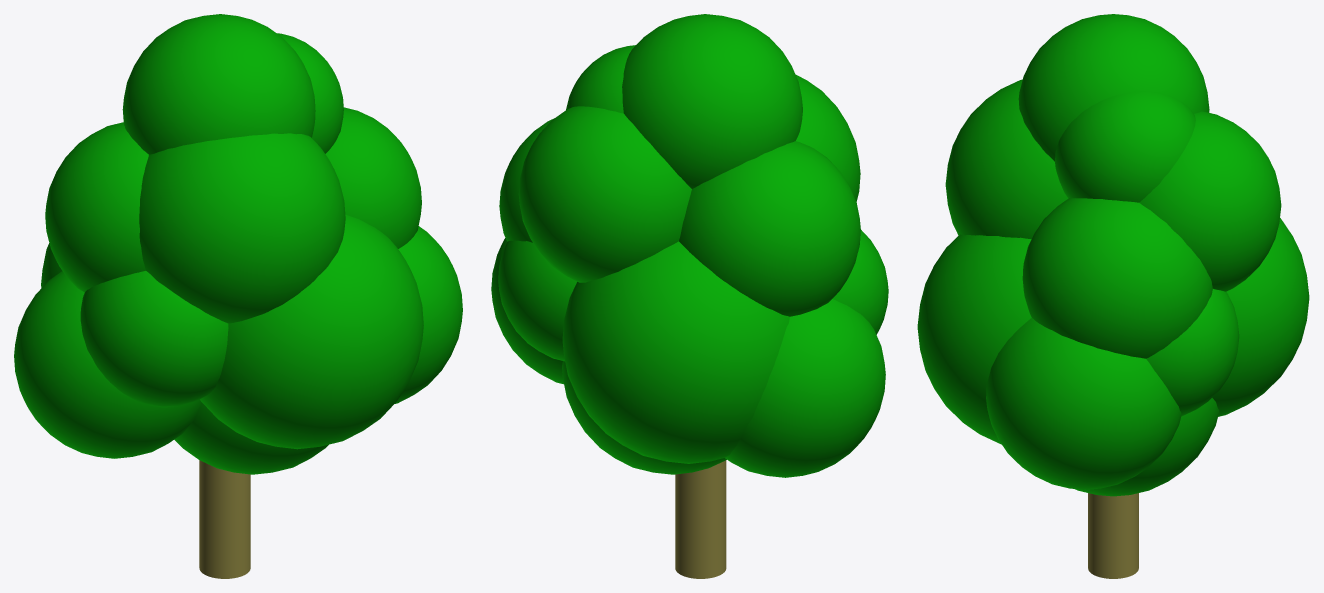
The model's file is Peach's Castle Tree.dae.
3 views of the same model, side by side, from view 1: azimuth 30°, elevation 25°; view 2: azimuth 150°, elevation 25°; view 3: azimuth 270°, elevation 25° (orthographic).
Visible parts, largest first — view 1: Sphere, Cylinder; view 2: Sphere, Cylinder; view 3: Sphere, Cylinder.
Part boxes in pixels (left/top/right/bottom): Sphere: left=14, top=14, right=462, bottom=474; Cylinder: left=199, top=460, right=250, bottom=578; Sphere: left=491, top=14, right=888, bottom=477; Cylinder: left=675, top=460, right=726, bottom=578; Sphere: left=917, top=14, right=1309, bottom=496; Cylinder: left=1088, top=493, right=1138, bottom=578.
Bounding box in the file's own units: 53.4 × 70.65 × 46.25.
2 materials, 2 textured.
